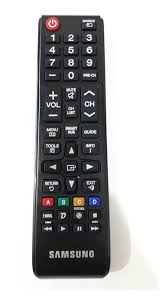remote control: (34, 9, 112, 285)
